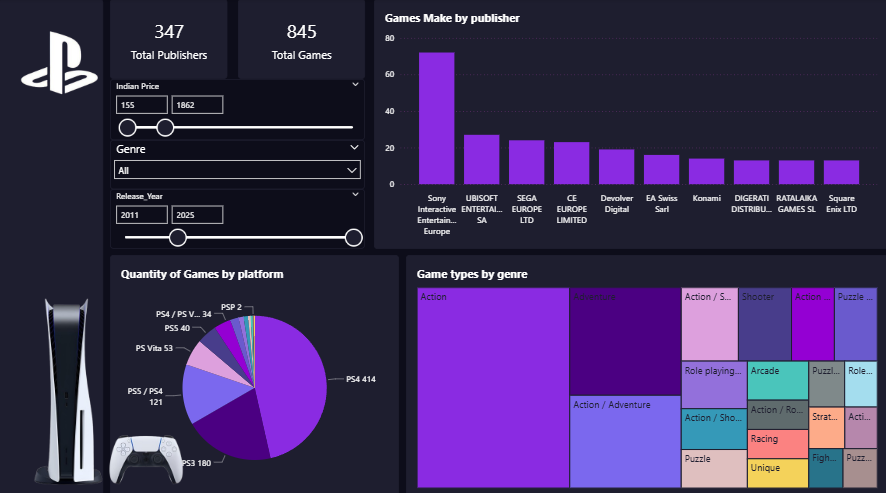

The page's visual inventory and layout, read from the dashboard file:
{"tool":"powerbi","page":{"name":"Game Populartiy","canvas":[1280,720],"ordinal":0},"visuals":[{"type":"columnChart","fields":{"Category":["game_details.publisher"],"Y":["CountNonNull(game_details.game_name)"]},"box":[539.5,0,740.5,359.7],"z":0},{"type":"pieChart","fields":{"Category":["game_details.platform"],"Y":["CountNonNull(game_details.game_name)"]},"box":[160.2,368.7,415.6,350.6],"z":1000},{"type":"treemap","fields":{"Group":["game_details.genre"],"Values":["CountNonNull(game_details.game_name)"]},"box":[586.4,368.7,693.6,350.6],"z":2000},{"type":"slicer","fields":{"Values":["game_details.Release_Year"]},"box":[160.2,273.5,367.2,86.1],"z":3000},{"type":"slicer","fields":{"Values":["game_details.genre"]},"box":[160.2,202.5,367.2,71],"z":4000},{"type":"slicer","fields":{"Values":["game_details.Indian Price"]},"box":[160.2,114.9,367.2,87.7],"z":5000},{"type":"card","fields":{"Values":["game_details.Total Games"]},"box":[344.6,0,182.9,114.9],"z":5001},{"type":"card","fields":{"Values":["game_details.Total Publishers"]},"box":[160.2,0,169.3,114.9],"z":5002},{"type":"shape","box":[0,0,149.6,719.3],"z":5003}]}

Visuals, with their boxes in screenshot pixels (x1, y1, x2, y2), scaled from the page's 1280x720 canvas onto the 886x493 screenshot:
columnChart - game_details.publisher x CountNonNull(game_details.game_name): (373, 0, 885, 246)
pieChart - game_details.platform x CountNonNull(game_details.game_name): (111, 252, 399, 492)
treemap - game_details.genre x CountNonNull(game_details.game_name): (406, 252, 885, 492)
slicer - game_details.Release_Year: (111, 187, 365, 246)
slicer - game_details.genre: (111, 139, 365, 187)
slicer - game_details.Indian Price: (111, 79, 365, 139)
card - game_details.Total Games: (239, 0, 365, 79)
card - game_details.Total Publishers: (111, 0, 228, 79)
shape: (0, 0, 104, 492)
